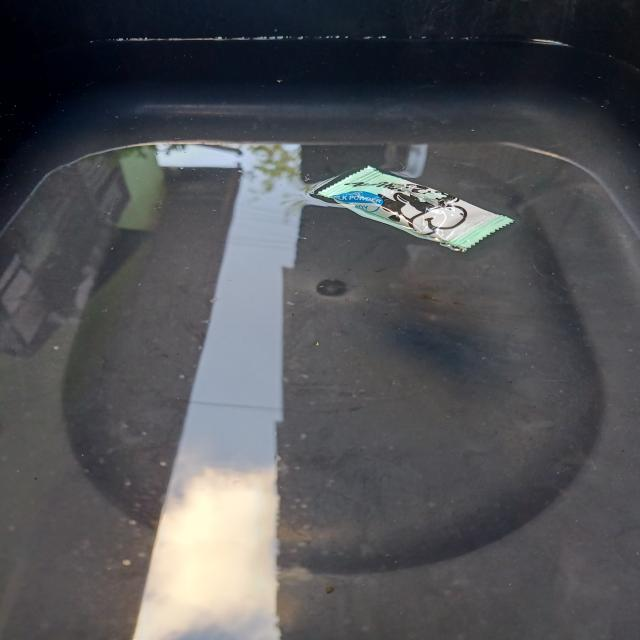Plastic Wrapper: (303, 152, 521, 262)
